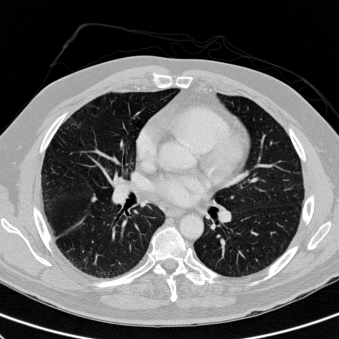nodule: (91, 196, 97, 202)
